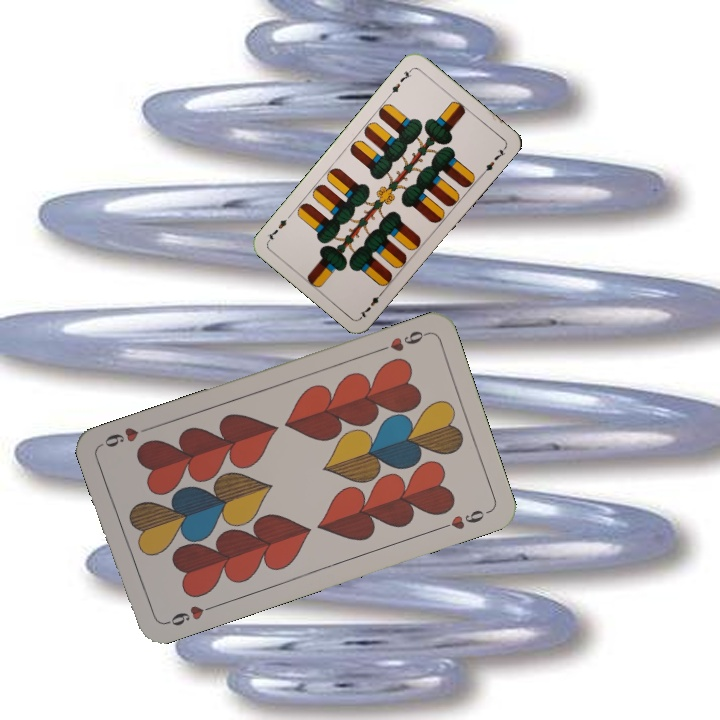E7: (355, 286, 386, 321), (385, 65, 415, 99)
H9: (373, 326, 430, 355), (160, 601, 217, 629)
